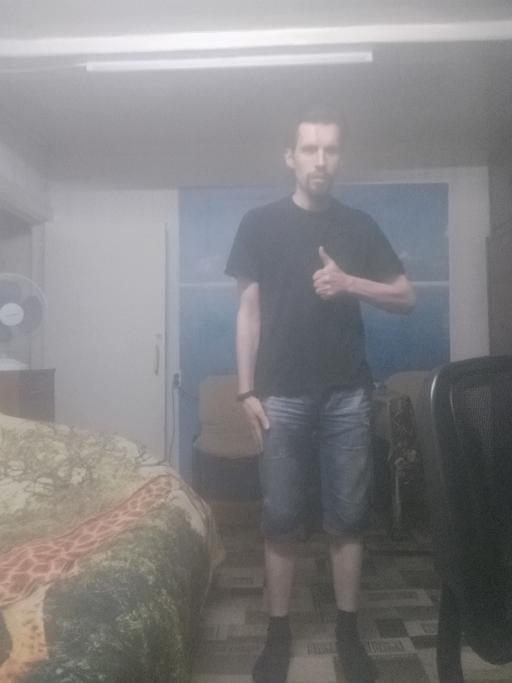like: (310, 243, 347, 302)
no_gesture: (239, 395, 271, 455)
